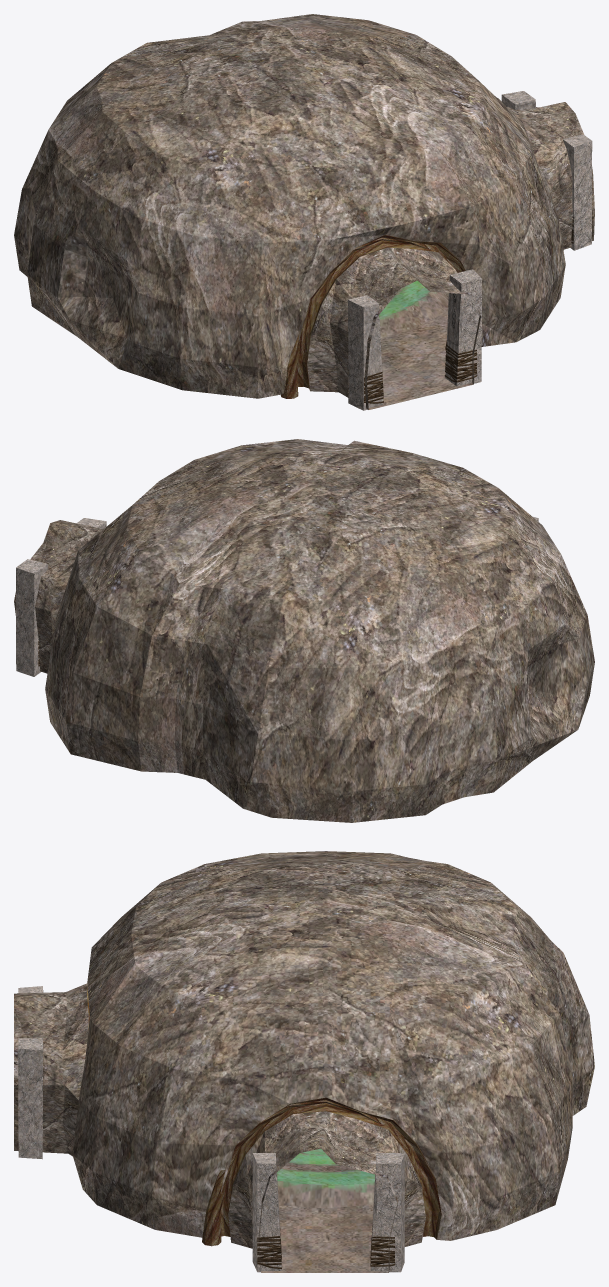
Rendered from thm_dath_mtn_clan_stronghold_r5_meditation_mesh_r5.fbx.
3 views of the same model, one above another, from view 1: azimuth 30°, elevation 25°; view 2: azimuth 150°, elevation 25°; view 3: azimuth 270°, elevation 25° (orthographic). The views are drawn at different scales.
Visible parts, largest first — view 1: mesh_node; view 2: mesh_node; view 3: mesh_node.
Part boxes in pixels (x1,y1,x2,y2): mesh_node: (14, 14, 594, 410); mesh_node: (14, 439, 594, 822); mesh_node: (14, 851, 594, 1272).
Size of the model in its own units: 15.42 by 6.81 by 14.89.
